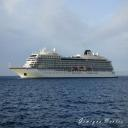cruises: (8, 49, 120, 80)
